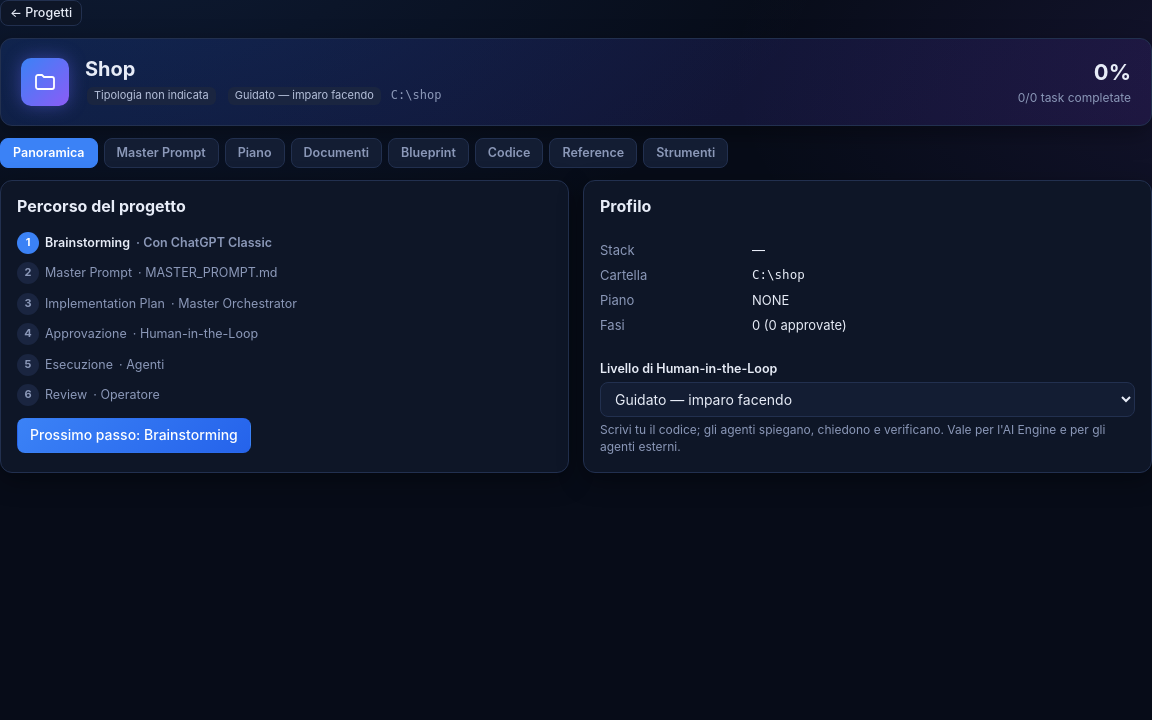
Test: Reference — deleting from the console (ADR-035 §5) › removes one image with its trash button, and the tile leaves at once
Click the tab "Reference" at (593, 153), box left=549, top=138, right=637, bottom=168
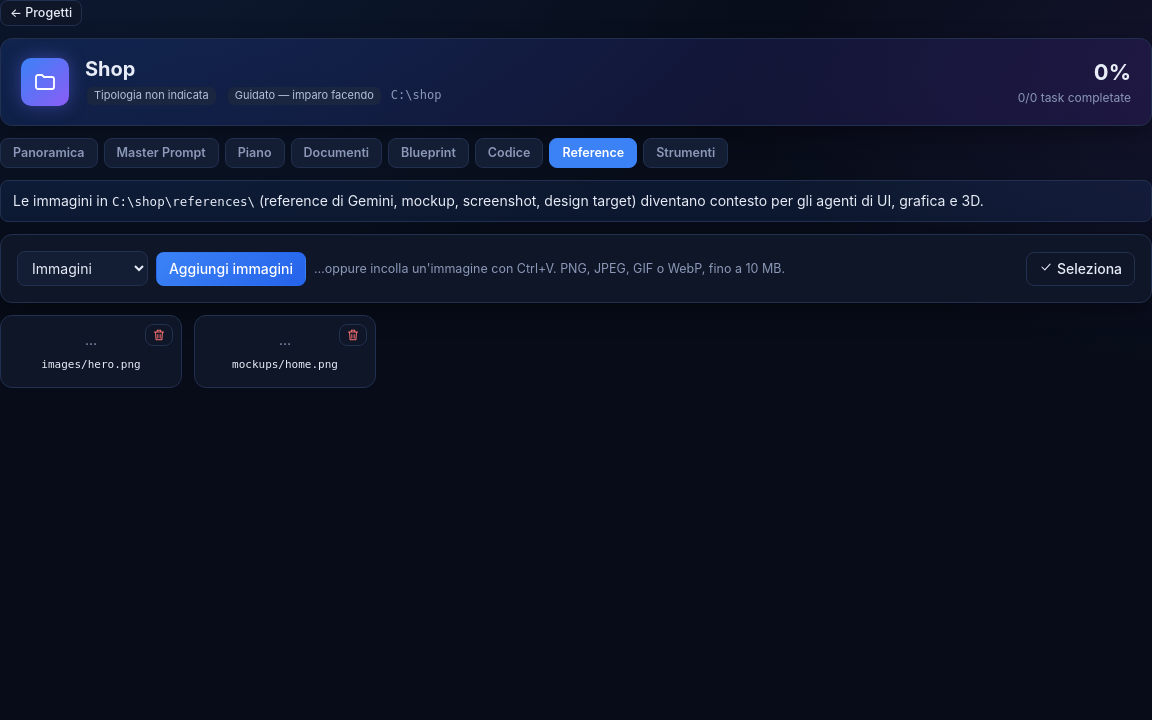
Click the button named "Elimina images/hero.png" at (159, 336), box left=145, top=324, right=173, bottom=346
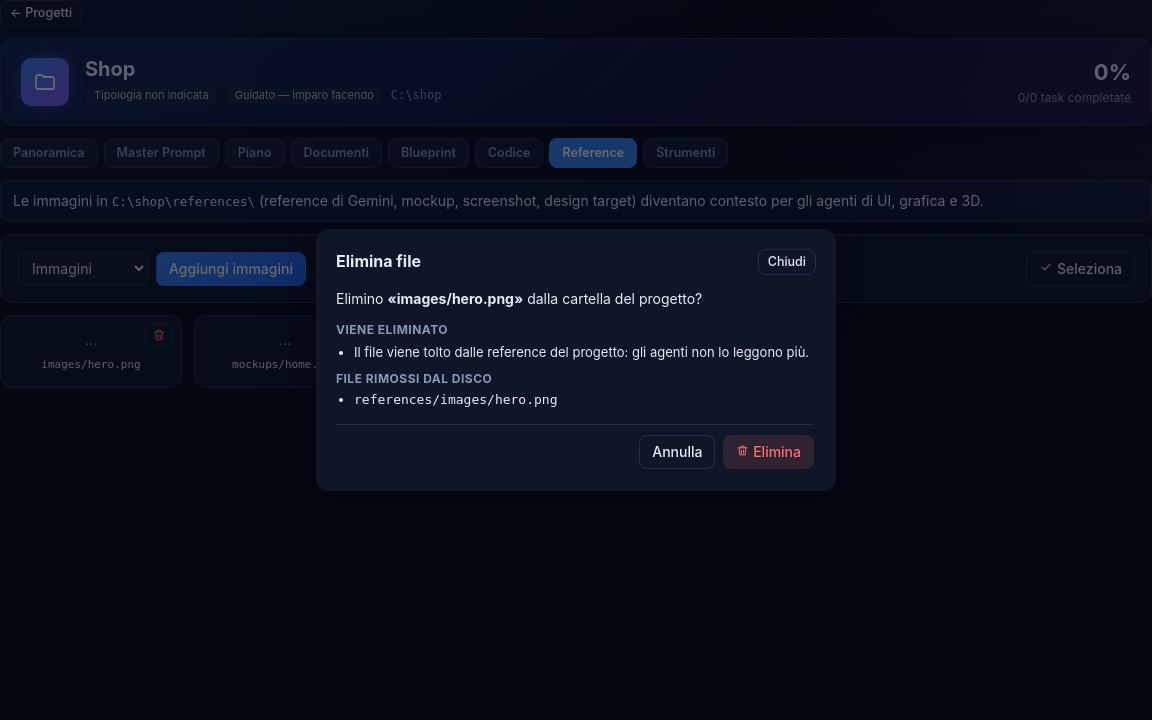
Result: the list item "references/images/hero.png" is shown at left=354, top=392, right=558, bottom=407
Click the button "Elimina" at (769, 452), box left=723, top=435, right=814, bottom=469
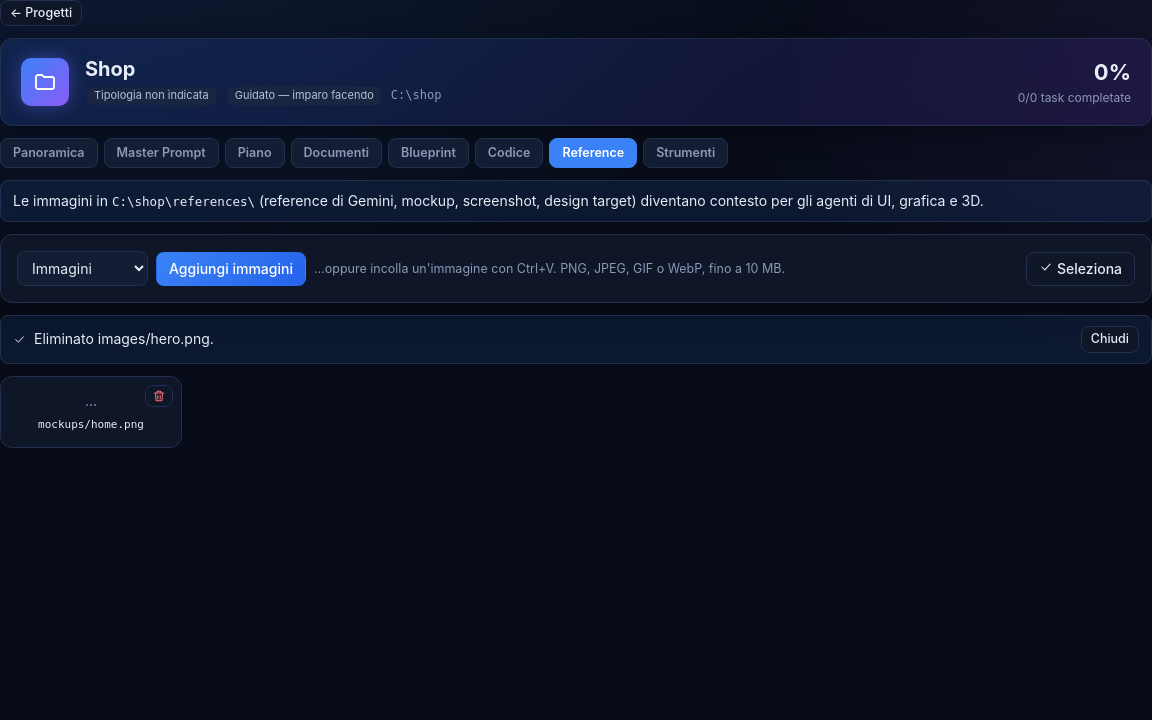
Result: the text "mockups/home.png" is shown at left=38, top=417, right=144, bottom=433
Result: the text "Eliminato images/hero.png." is shown at left=34, top=330, right=214, bottom=347
